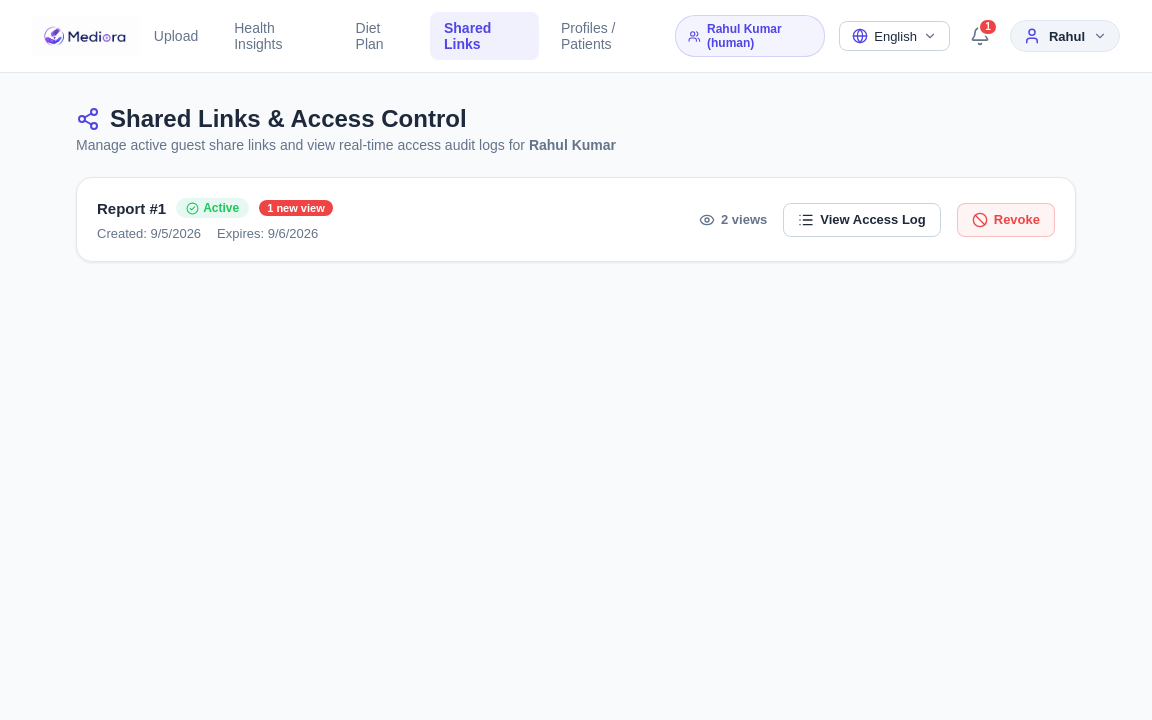
Test: SharingSettingsPage Integration Tests › clicking "View Access Log" opens modal and displays access logs
Click the button "View Access Log". click: (862,220)
box: [783,202,941,236]
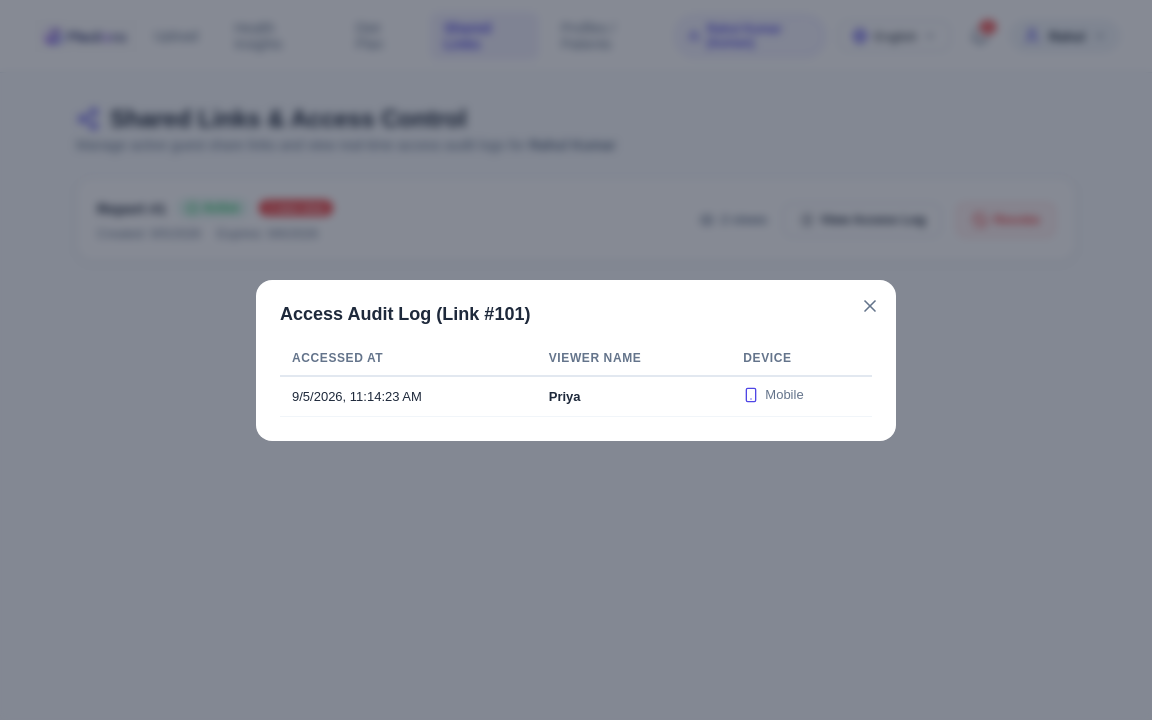
Now the text "Priya" is shown, box [549,388,581,404]
Now the text "mobile" is shown, box [765,387,804,402]
